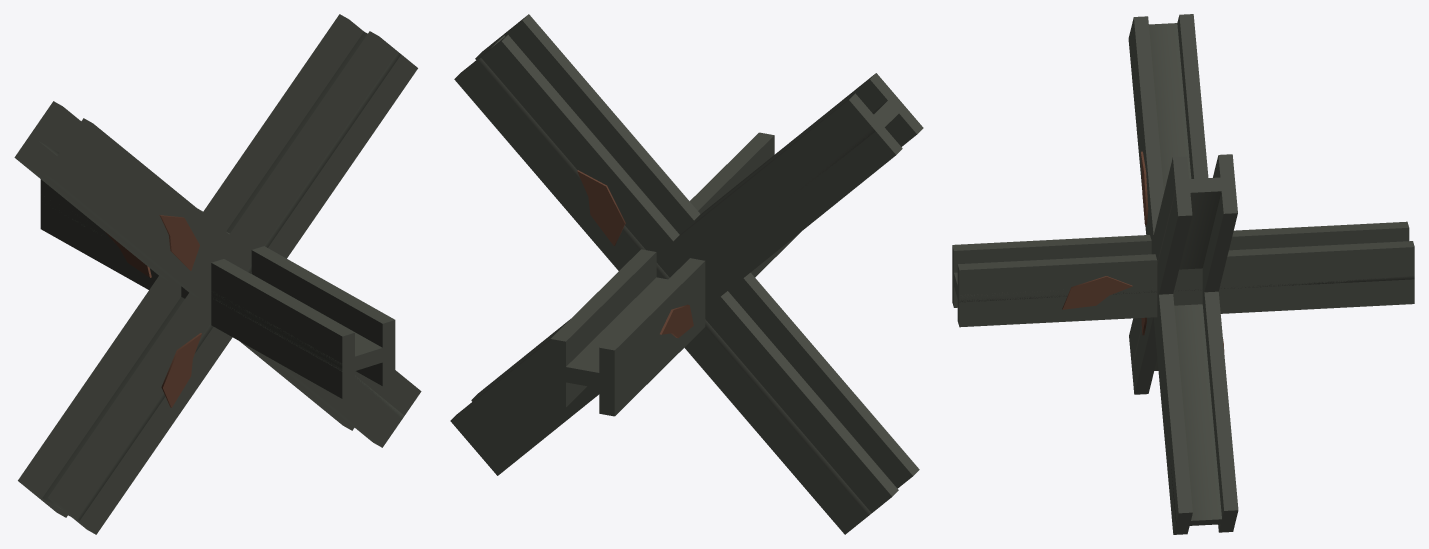
File: tank_trap_a.obj
The picture shows the model from 3 angles, left to right: view 1: azimuth 30°, elevation 25°; view 2: azimuth 150°, elevation 25°; view 3: azimuth 270°, elevation 25°; orthographic projection. The views are drawn at different scales.
Parts seen in each view (by area): view 1: retained_0, retained_88, retained_12, retained_164, retained_152, rounded_inner_web_1, retained_76, rounded_inner_web_3, retained_36, retained_132, rounded_inner_web_2; view 2: retained_12, retained_76, retained_0, retained_164, retained_152, retained_88, rounded_inner_web_1, rounded_inner_web_3, retained_56, retained_208, rounded_inner_web_2; view 3: retained_152, rounded_inner_web_2, retained_88, retained_164, retained_76, retained_0, retained_12, rounded_inner_web_1, retained_188, rounded_inner_web_3.
Boxes of the visible parts, x1=… form: retained_0: x1=48, y1=31, x2=417, y2=534; retained_88: x1=45, y1=118, x2=421, y2=447; retained_12: x1=18, y1=14, x2=363, y2=517; retained_164: x1=40, y1=179, x2=354, y2=398; retained_152: x1=198, y1=209, x2=395, y2=386; rounded_inner_web_1: x1=39, y1=31, x2=400, y2=521; retained_76: x1=14, y1=101, x2=354, y2=430; rounded_inner_web_3: x1=44, y1=196, x2=395, y2=371; retained_36: x1=161, y1=333, x2=201, y2=407; retained_132: x1=159, y1=215, x2=199, y2=270; rounded_inner_web_2: x1=39, y1=124, x2=404, y2=419; retained_12: x1=454, y1=35, x2=898, y2=534; retained_76: x1=450, y1=93, x2=902, y2=475; retained_0: x1=475, y1=14, x2=919, y2=488; retained_164: x1=599, y1=232, x2=800, y2=416; retained_152: x1=550, y1=132, x2=774, y2=407; retained_88: x1=471, y1=73, x2=923, y2=401; rounded_inner_web_1: x1=478, y1=35, x2=871, y2=515; rounded_inner_web_3: x1=550, y1=277, x2=667, y2=388; retained_56: x1=577, y1=170, x2=625, y2=245; retained_208: x1=660, y1=304, x2=693, y2=338; rounded_inner_web_2: x1=803, y1=101, x2=903, y2=187; retained_152: x1=957, y1=241, x2=1414, y2=327; rounded_inner_web_2: x1=1149, y1=23, x2=1235, y2=526; retained_88: x1=1128, y1=16, x2=1192, y2=534; retained_164: x1=952, y1=221, x2=1409, y2=307; retained_76: x1=1177, y1=14, x2=1238, y2=532; retained_0: x1=1129, y1=156, x2=1192, y2=394; retained_12: x1=1202, y1=154, x2=1237, y2=292; rounded_inner_web_1: x1=1131, y1=177, x2=1221, y2=370; retained_188: x1=1062, y1=276, x2=1132, y2=309; rounded_inner_web_3: x1=954, y1=272, x2=1414, y2=302.
Size of the model in its own units: 1.61 by 1.6 by 1.76.
